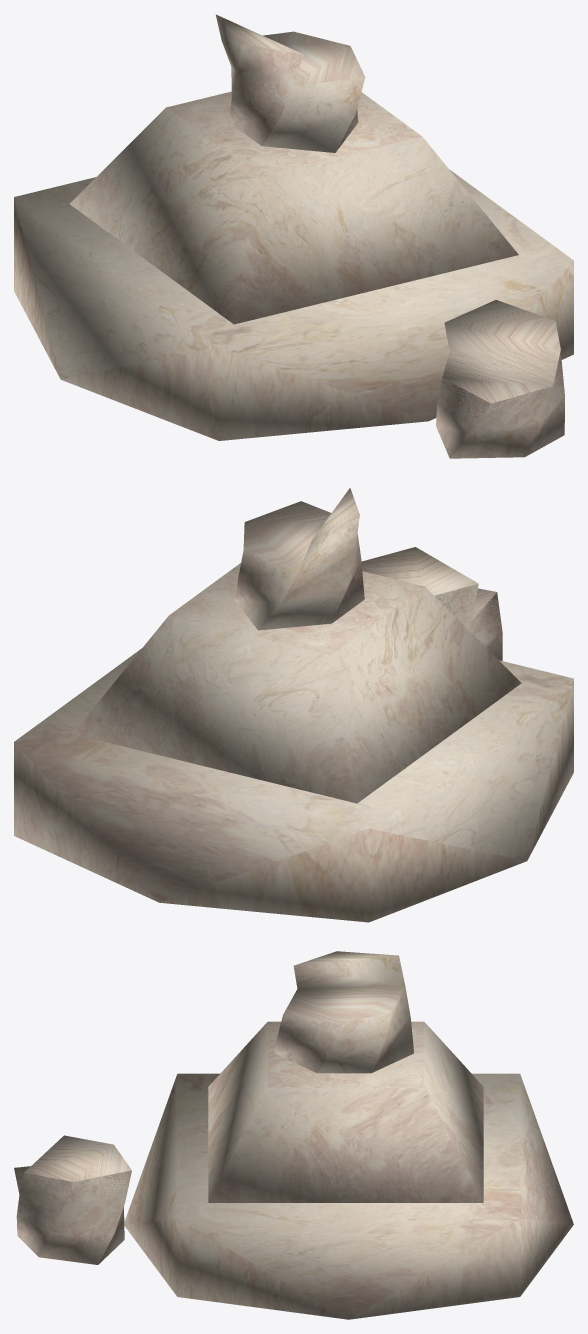
The model's file is tower-colon4.fbx.
3 views of the same model, one above another, from view 1: azimuth 30°, elevation 25°; view 2: azimuth 150°, elevation 25°; view 3: azimuth 270°, elevation 25° (orthographic). The views are drawn at different scales.
Parts seen in each view (by area): view 1: tower-colon; view 2: tower-colon; view 3: tower-colon.
Boxes of the visible parts, x1,y1,x2,y2 form: tower-colon: (14,14,573,458); tower-colon: (14,488,573,922); tower-colon: (14,951,573,1319).
Size of the model in its own units: 550 by 683 by 336.
